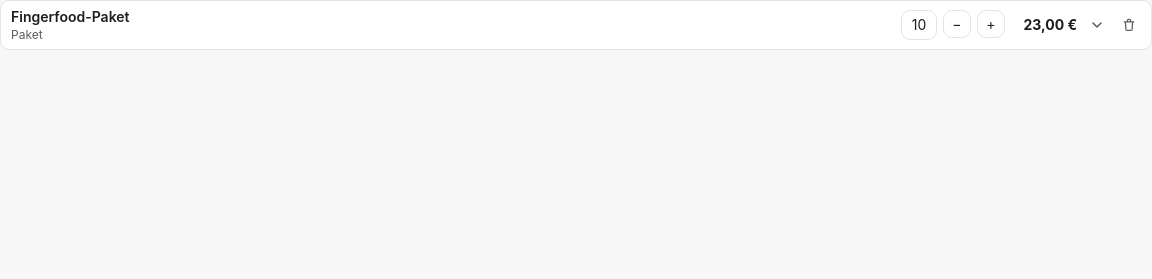
Scenario: OfferLineItem — compact row › reveals Bezug, unit price and the composite note when the details toggle is activated
This screenshot has width=1152, height=279.
Click the button named "Details anzeigen" at (1097, 25), box left=1085, top=13, right=1109, bottom=37
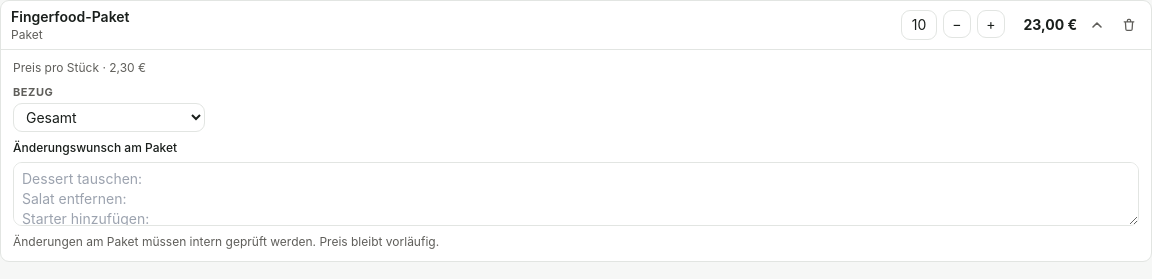
Expected: the text "Bezug" is shown, left=13, top=85, right=53, bottom=99
Expected: the text "Preis pro Stück · 2,30 €" is shown, left=13, top=60, right=146, bottom=75
Expected: the text "Änderungswunsch am Paket" is shown, left=13, top=140, right=177, bottom=154
